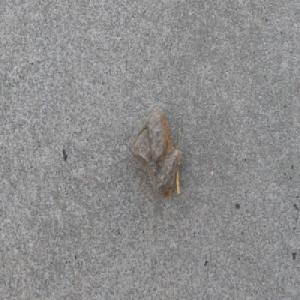Rock: (126, 104, 181, 199)
